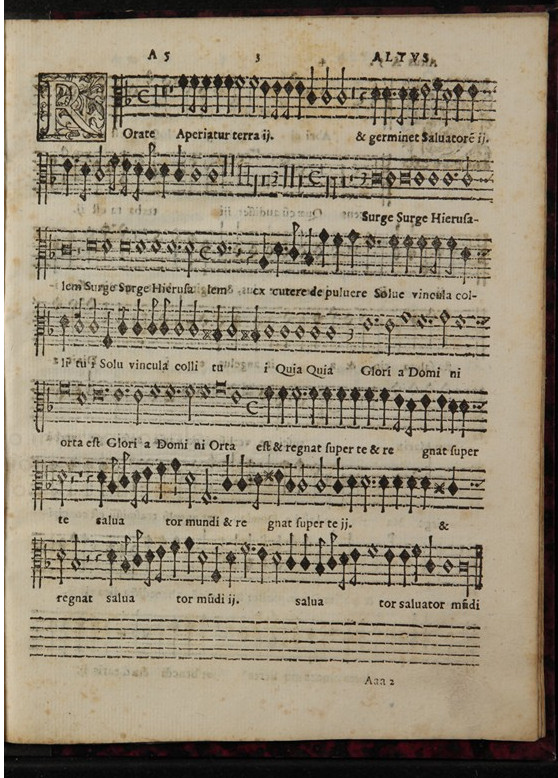Imin: (132, 81, 153, 110)
breve rest: (348, 69, 357, 122), (159, 70, 167, 118)
c clef_7: (108, 71, 125, 132)
custos_5: (479, 81, 498, 103)
flat_8: (120, 73, 132, 111)
fusa rest: (356, 69, 368, 123)
fusa_4: (184, 65, 201, 116), (197, 66, 213, 118)
fusa_5: (282, 72, 299, 125), (268, 73, 281, 123)
fusa_6: (392, 80, 409, 130)
longa rest: (150, 72, 160, 121)
minim_4: (232, 68, 247, 116), (246, 70, 259, 116)
minim_5: (418, 77, 431, 123)
minim_6: (441, 82, 453, 128)
minim_7: (335, 62, 348, 109), (319, 62, 332, 108)
point: (387, 86, 399, 100)
semibreve rest: (165, 70, 176, 117)
semiminim_4: (221, 67, 235, 117), (176, 67, 190, 116), (210, 66, 223, 118), (431, 71, 444, 120)
semiminim_5: (465, 77, 480, 126), (256, 73, 271, 121), (451, 77, 465, 126), (293, 73, 305, 124)
semiminim_6: (405, 79, 420, 131), (367, 80, 381, 125), (380, 78, 392, 130)
semiminim_7: (305, 63, 318, 110)
